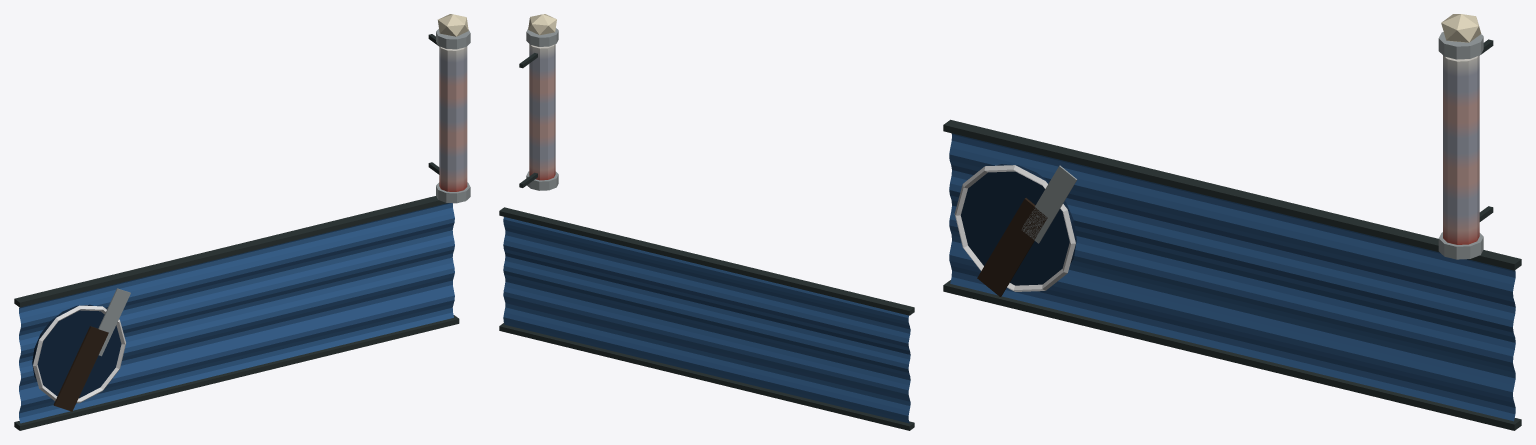
Rendered from bang_hot_toc_binh_dan_48.glb.
The picture shows the model from 3 angles, left to right: view 1: azimuth 30°, elevation 25°; view 2: azimuth 150°, elevation 25°; view 3: azimuth 330°, elevation 25°; orthographic projection. The views are drawn at different scales.
Parts seen in each view (by area): view 1: bang_hot_toc_binh_dan_48; view 2: bang_hot_toc_binh_dan_48; view 3: bang_hot_toc_binh_dan_48.
Part boxes in pixels (bbox=[...]): bang_hot_toc_binh_dan_48: bbox=[14, 14, 470, 430]; bang_hot_toc_binh_dan_48: bbox=[499, 14, 914, 430]; bang_hot_toc_binh_dan_48: bbox=[943, 14, 1521, 430].
Bounding box in the file's own units: 4.66 × 3.32 × 0.5722.
